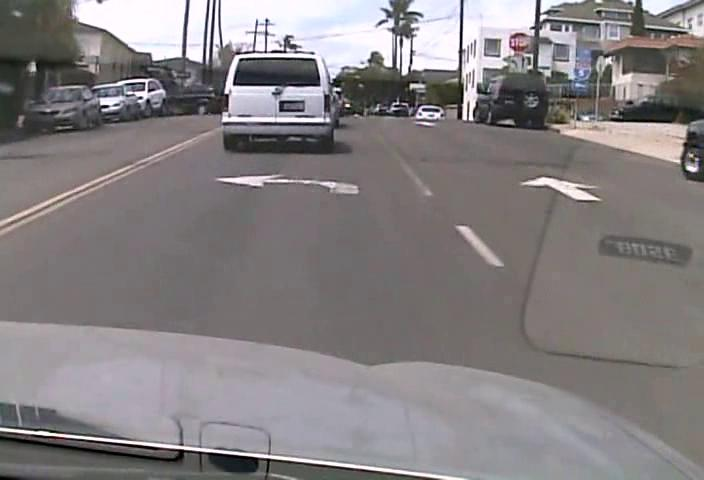stop: (507, 31, 531, 54)
